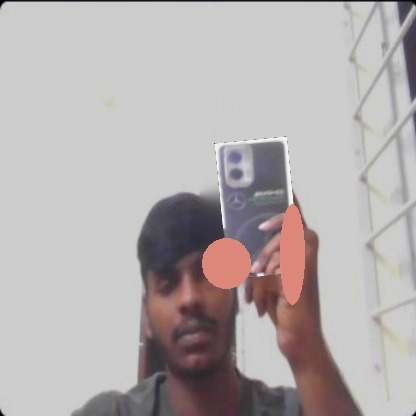cell_phone: (214, 136, 300, 279)
